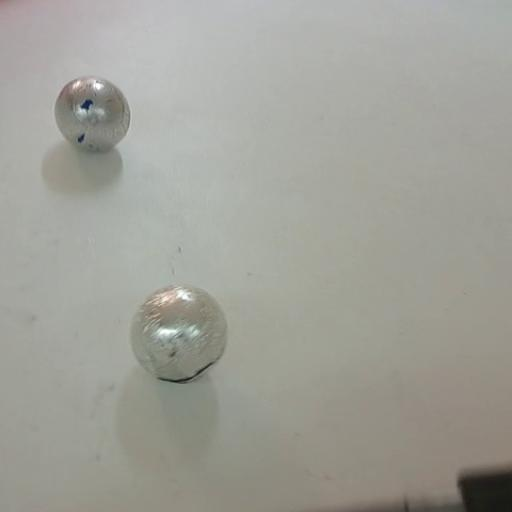alive: (130, 284, 230, 382), (53, 74, 131, 152)
